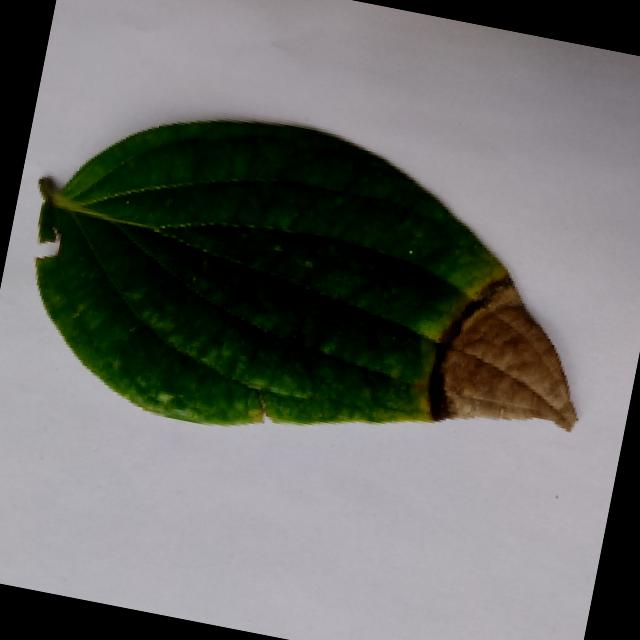footrot: (7, 65, 640, 496)
